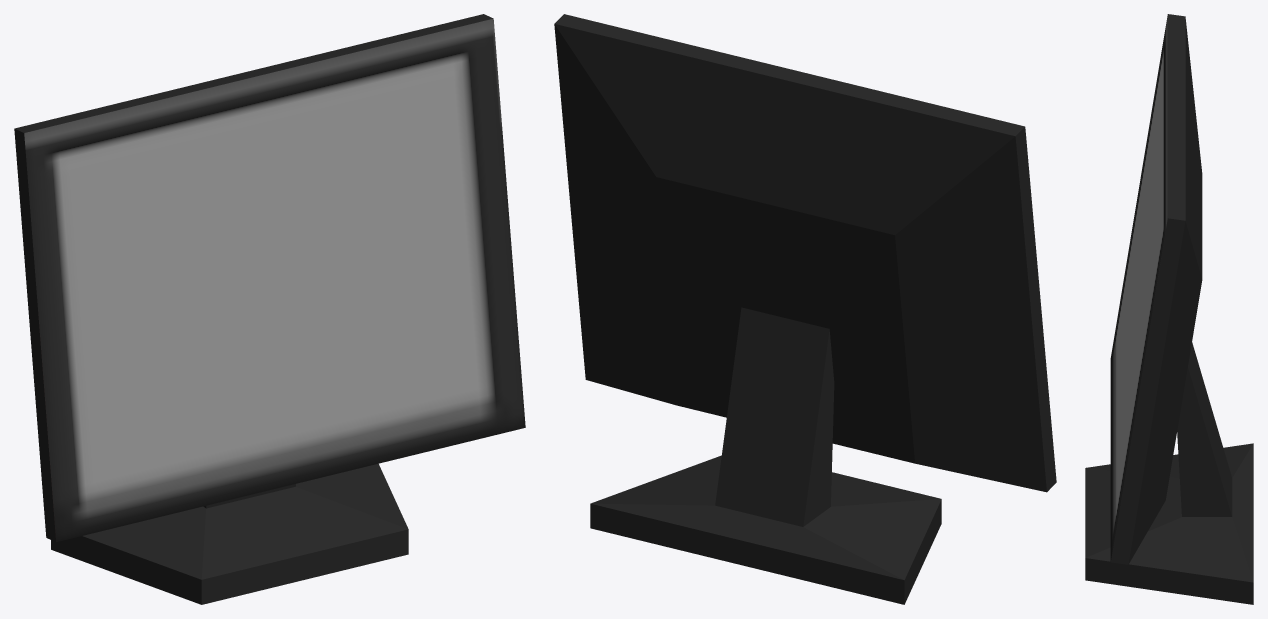
The model's file is Monitor.fbx.
3 views of the same model, side by side, from view 1: azimuth 30°, elevation 25°; view 2: azimuth 150°, elevation 25°; view 3: azimuth 270°, elevation 25° (orthographic). The views are drawn at different scales.
Visible parts, largest first — view 1: Maya_File_Assets:TexturedAssetsCurrent:monitor_flat; view 2: Maya_File_Assets:TexturedAssetsCurrent:monitor_flat; view 3: Maya_File_Assets:TexturedAssetsCurrent:monitor_flat.
Part boxes in pixels (box(x1,y1,x2,y2)): Maya_File_Assets:TexturedAssetsCurrent:monitor_flat: box(14, 14, 525, 604); Maya_File_Assets:TexturedAssetsCurrent:monitor_flat: box(554, 14, 1056, 604); Maya_File_Assets:TexturedAssetsCurrent:monitor_flat: box(1085, 14, 1253, 604).
Bounding box in the file's own units: 0.5883 × 0.5628 × 0.2048.
